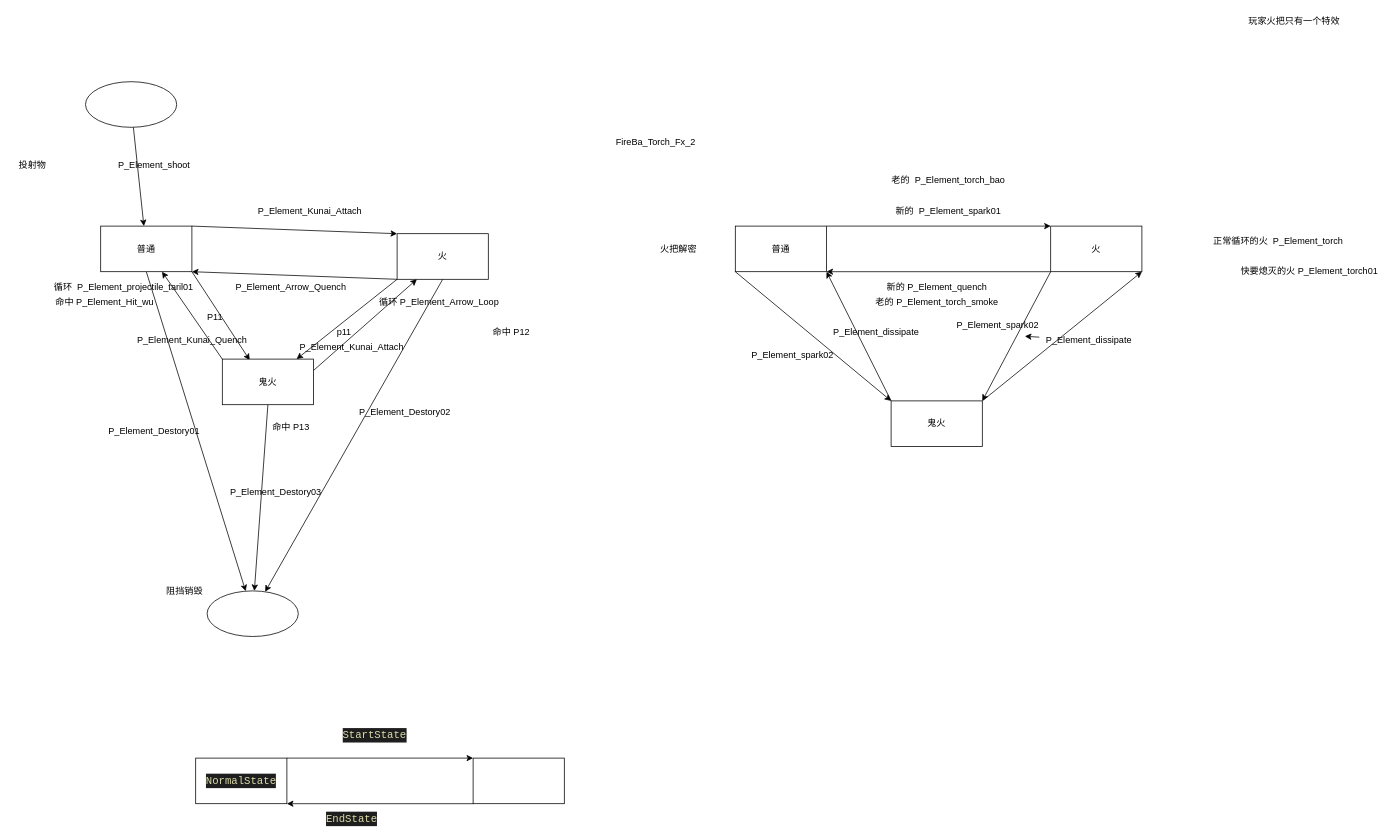
The diagram is 1398 pixels wide and 839 high, and some of its shapes have lost their labels. The shapes that lost their labels are listed below. From the top down, each one's box as (x1, y1, x2, y2) in pixels, then its label:
(85, 81, 177, 127): 生成
(206, 590, 298, 636): 死亡
(472, 757, 564, 804): LoopState
